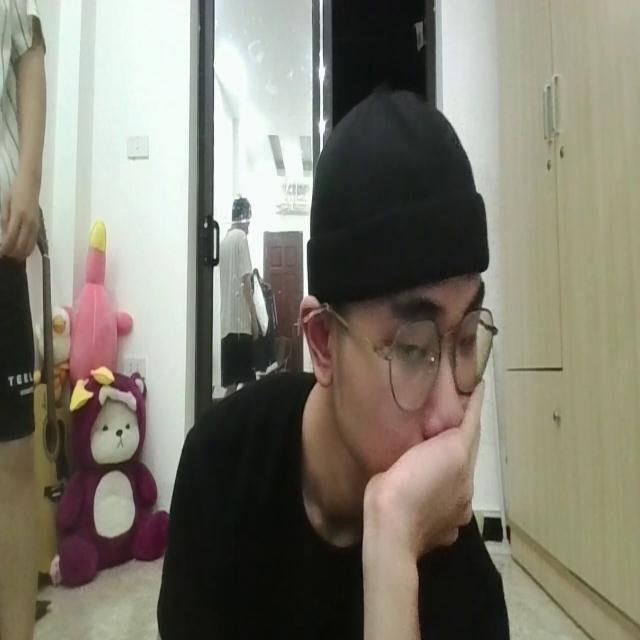extra_person: (0, 0, 52, 640), (216, 184, 260, 396)
student: (166, 89, 511, 640)
